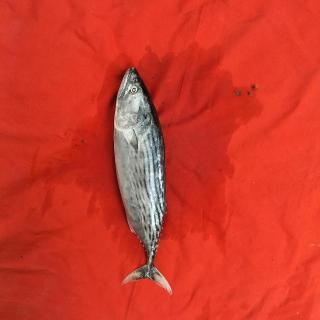Ikan: (108, 58, 192, 306)
